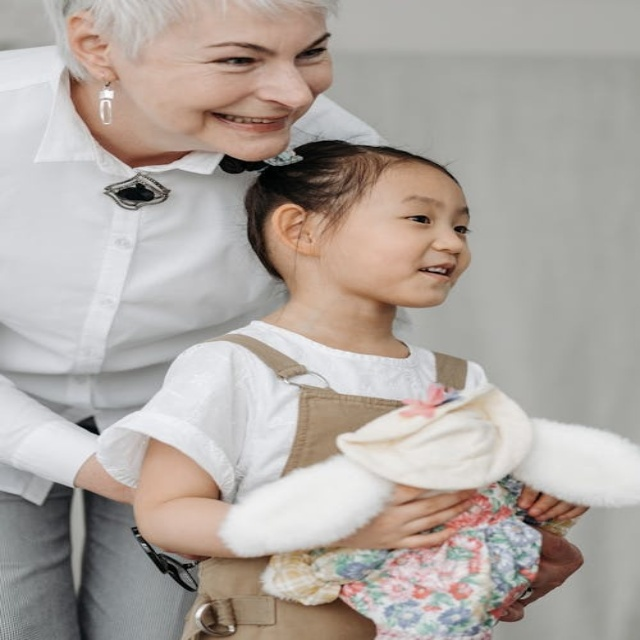Sin_gafas: (187, 27, 337, 82), (379, 204, 474, 239)
Sin_guantes: (337, 482, 486, 552), (503, 520, 584, 616)
Sin_mascara: (197, 109, 303, 155), (394, 261, 463, 302)
